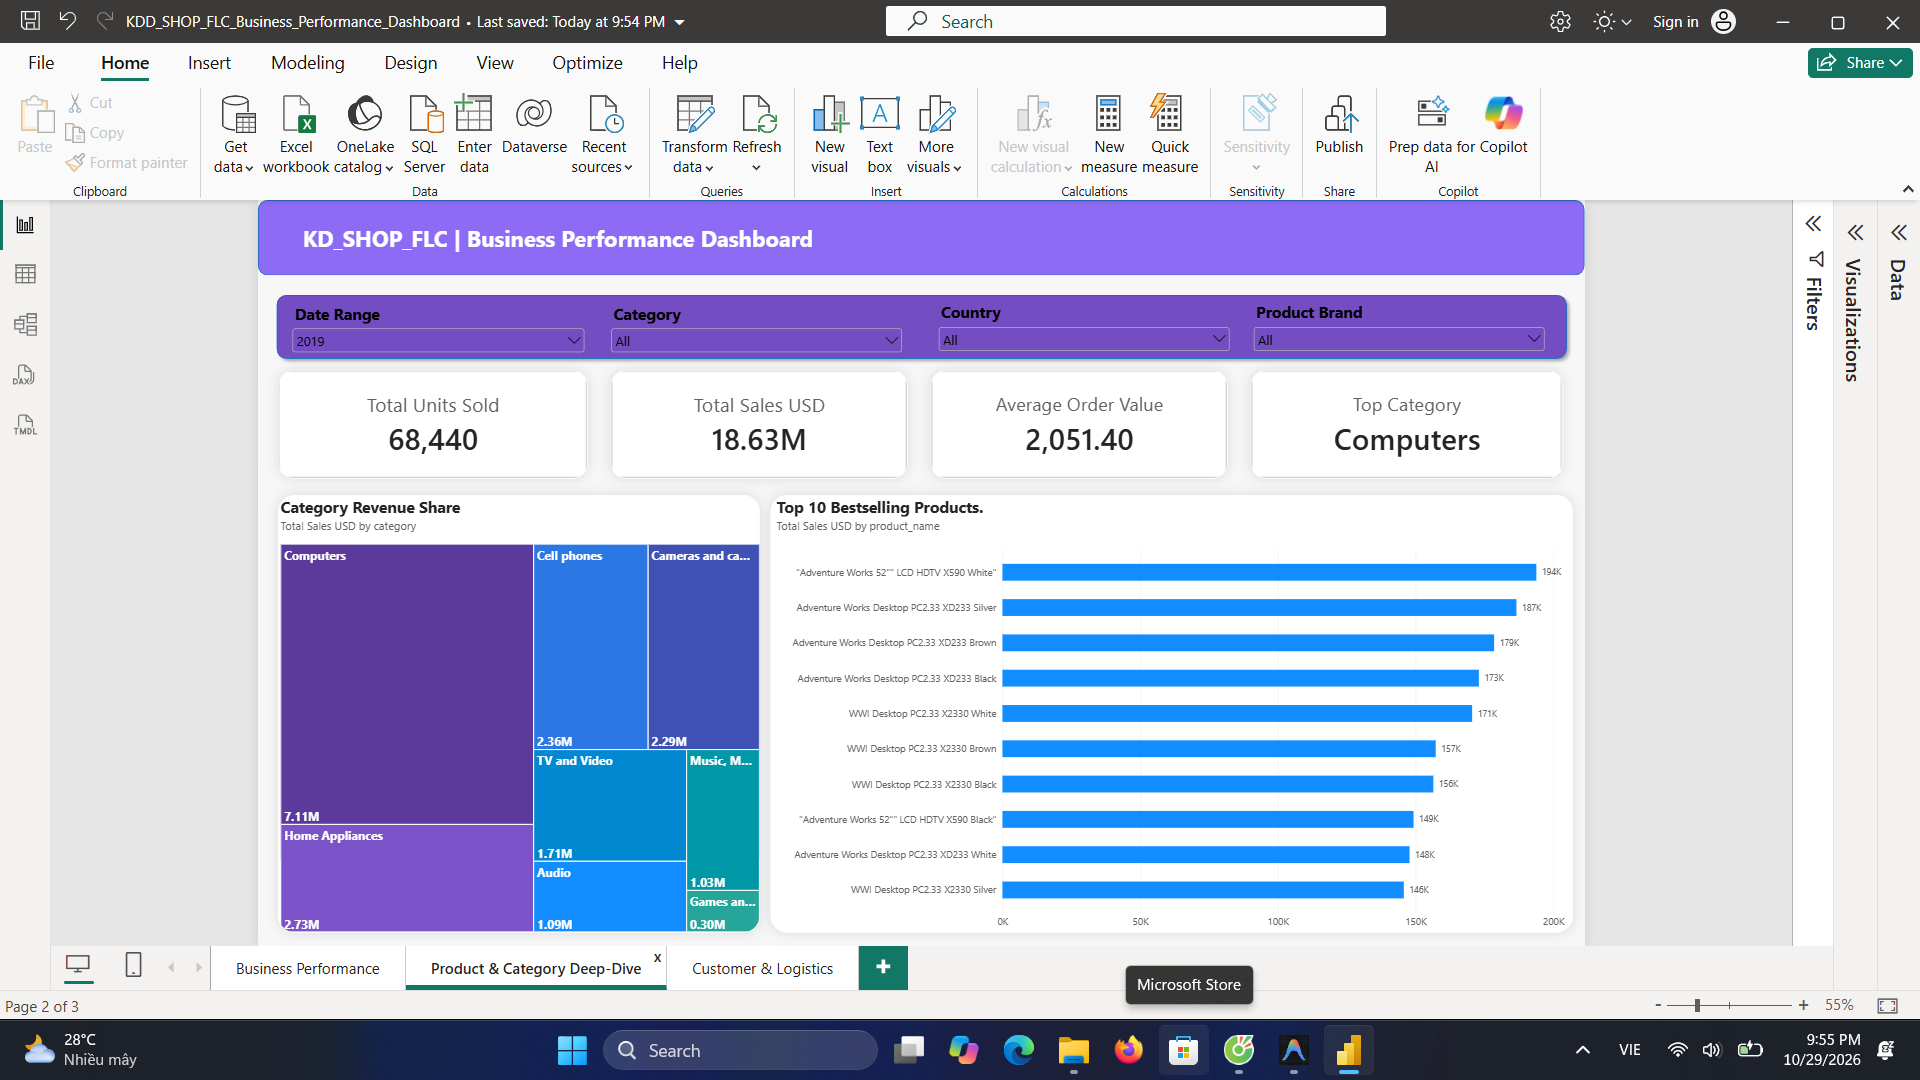

Layout of this report page (visuals, bound fields, positions):
{"tool":"powerbi","page":{"name":"Product & Category Deep-Dive","canvas":[1920,1080],"ordinal":1},"visuals":[{"type":"shape","box":[0,0,1920.4,109.1],"z":0},{"type":"shape","box":[18.1,128.5,1885.7,110.4],"z":1000},{"type":"slicer","title":"Date Range","fields":{"Values":["dim_date.year"]},"box":[45.2,148.4,432.5,74.2],"z":2000},{"type":"slicer","title":"Region","fields":{"Values":["dim_store.country"]},"box":[980.8,146.6,430.7,74.2],"z":3000},{"type":"slicer","title":"Category","fields":{"Values":["dim_product.category"]},"box":[506.7,148.4,430.7,83.2],"z":4000},{"type":"slicer","title":"Product Brand","fields":{"Values":["dim_product.brand"]},"box":[1436.9,146.6,430.7,77.8],"z":5000},{"type":"cardVisual","fields":{"Data":["fact_sales.Total Units Sold"]},"box":[29,246.1,448.8,157.4],"z":6000},{"type":"cardVisual","fields":{"Data":["fact_sales.Total Sales USD"]},"box":[510.3,246.1,430.7,157.4],"z":7000},{"type":"cardVisual","fields":{"Data":["fact_sales.Average Order Value"]},"box":[973.6,246.1,430.7,157.4],"z":8000},{"type":"cardVisual","fields":{"Data":["fact_sales.Top Category"]},"box":[1436.9,246.1,452.4,157.4],"z":9000},{"type":"treemap","title":"Category Revenue Share","fields":{"Group":["dim_product.category"],"Values":["fact_sales.Total Sales USD"]},"box":[28.2,427.7,698,633.4],"z":10000},{"type":"clusteredBarChart","title":"Top 10 Bestselling Products.","fields":{"Category":["dim_product.product_name"],"Y":["fact_sales.Total Sales USD"]},"box":[742.3,427.7,1161.9,633.4],"z":11000}]}

Visuals, with their boxes on the page's 1920x1080 design canvas (x1, y1, x2, y2). These are canvas units, not pixel positions in the 1920x1080 screenshot, which may show the page scaled, cropped or inside an application window:
shape: [x1=0, y1=0, x2=1920, y2=109]
shape: [x1=18, y1=128, x2=1904, y2=239]
"Date Range" slicer: [x1=45, y1=148, x2=478, y2=223]
"Region" slicer: [x1=981, y1=147, x2=1412, y2=221]
"Category" slicer: [x1=507, y1=148, x2=937, y2=232]
"Product Brand" slicer: [x1=1437, y1=147, x2=1868, y2=224]
cardVisual - fact_sales.Total Units Sold: [x1=29, y1=246, x2=478, y2=404]
cardVisual - fact_sales.Total Sales USD: [x1=510, y1=246, x2=941, y2=404]
cardVisual - fact_sales.Average Order Value: [x1=974, y1=246, x2=1404, y2=404]
cardVisual - fact_sales.Top Category: [x1=1437, y1=246, x2=1889, y2=404]
"Category Revenue Share" treemap: [x1=28, y1=428, x2=726, y2=1061]
"Top 10 Bestselling Products." clusteredBarChart: [x1=742, y1=428, x2=1904, y2=1061]
